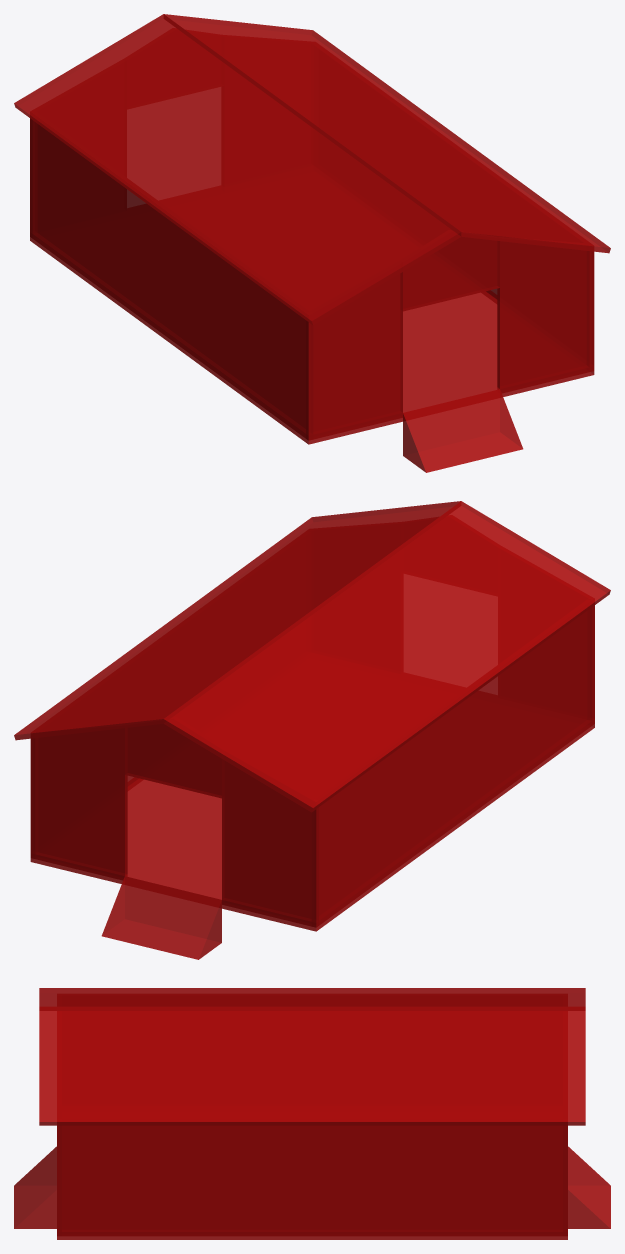
File: SM_Bld_Barracks_01_Collision.fbx
3 views of the same model, one above another, from view 1: azimuth 30°, elevation 25°; view 2: azimuth 150°, elevation 25°; view 3: azimuth 270°, elevation 25° (orthographic). The views are drawn at different scales.
Parts seen in each view (by area): view 1: SM_Bld_Barracks_01_Collision; view 2: SM_Bld_Barracks_01_Collision; view 3: SM_Bld_Barracks_01_Collision.
Part boxes in pixels (box(x1,y1,x2,y2)): SM_Bld_Barracks_01_Collision: box(14, 14, 610, 472); SM_Bld_Barracks_01_Collision: box(14, 501, 610, 959); SM_Bld_Barracks_01_Collision: box(14, 988, 610, 1239).
Bounding box in the file's own units: 731 × 511 × 1377.
